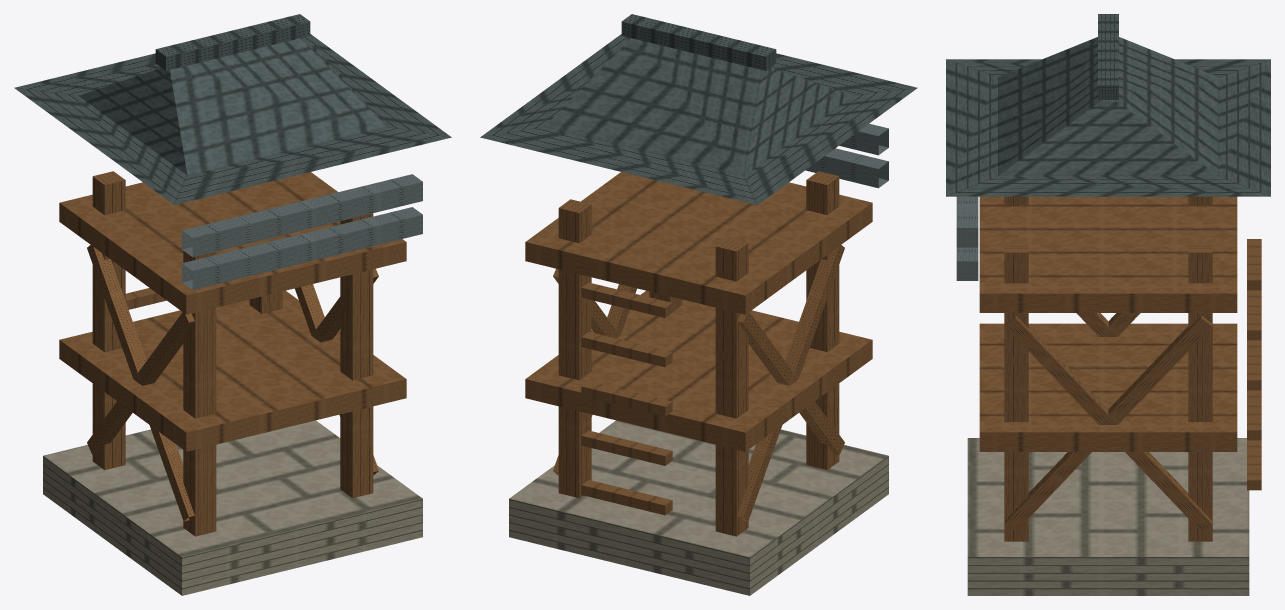
File: military-CROSSBOW_TOWER-1-lod1.glb
The picture shows the model from 3 angles, left to right: view 1: azimuth 30°, elevation 25°; view 2: azimuth 150°, elevation 25°; view 3: azimuth 270°, elevation 25°; orthographic projection.
Bounding box in the file's own units: 0.53 × 0.876 × 0.53.
Materials: 1 (1 with a texture image).
